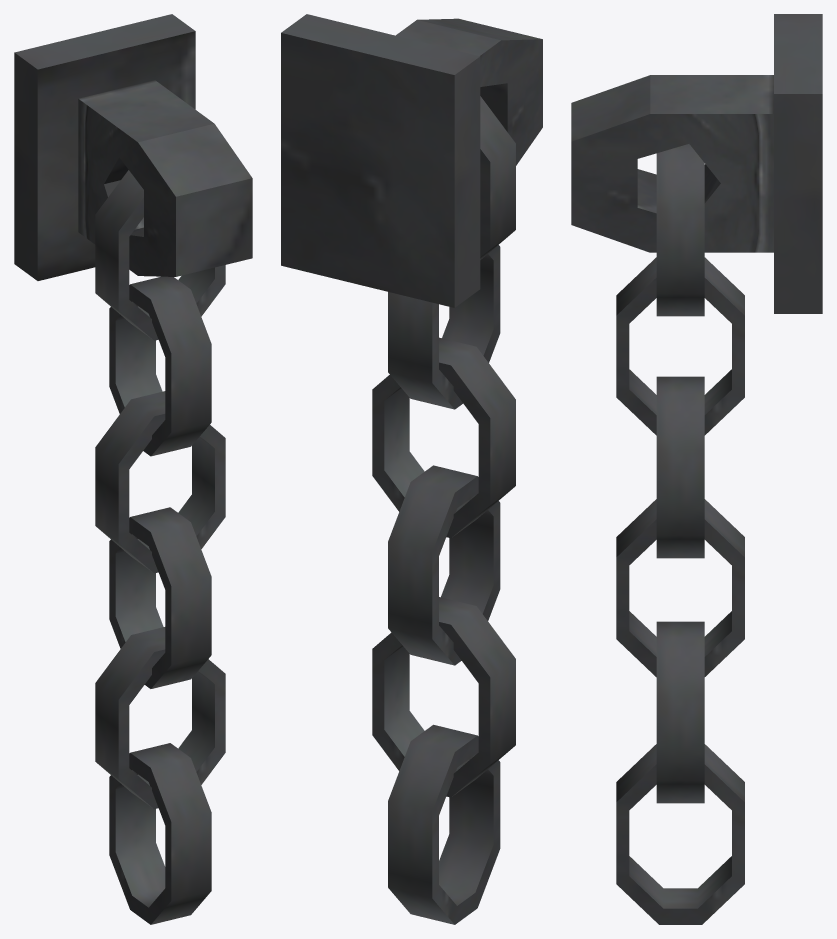
File: wall-chains-02.fbx
The picture shows the model from 3 angles, left to right: view 1: azimuth 30°, elevation 25°; view 2: azimuth 150°, elevation 25°; view 3: azimuth 270°, elevation 25°; orthographic projection. The views are drawn at different scales.
Visible parts, largest first — view 1: Cube.245; view 2: Cube.245; view 3: Cube.245.
Part boxes in pixels (x1,y1,x2,y2): Cube.245: (14,14,252,924); Cube.245: (281,14,542,924); Cube.245: (571,14,822,924).
Size of the model in its own units: 0.1977 by 0.9925 by 0.2624.
